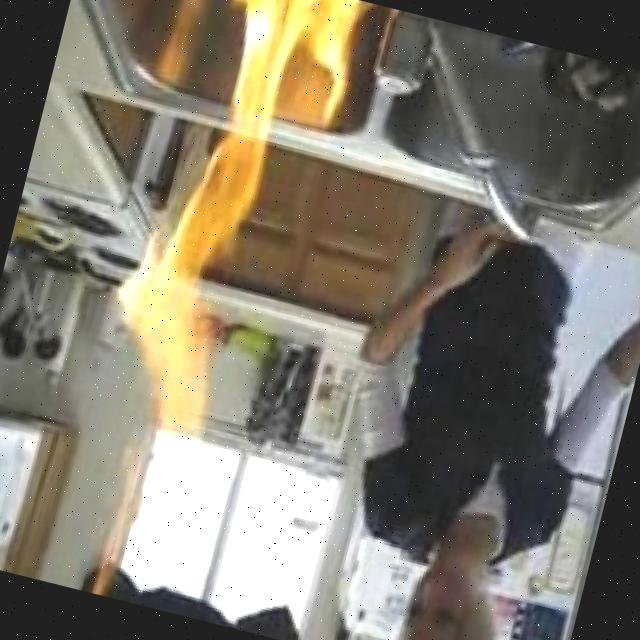fire: (82, 0, 375, 471)
